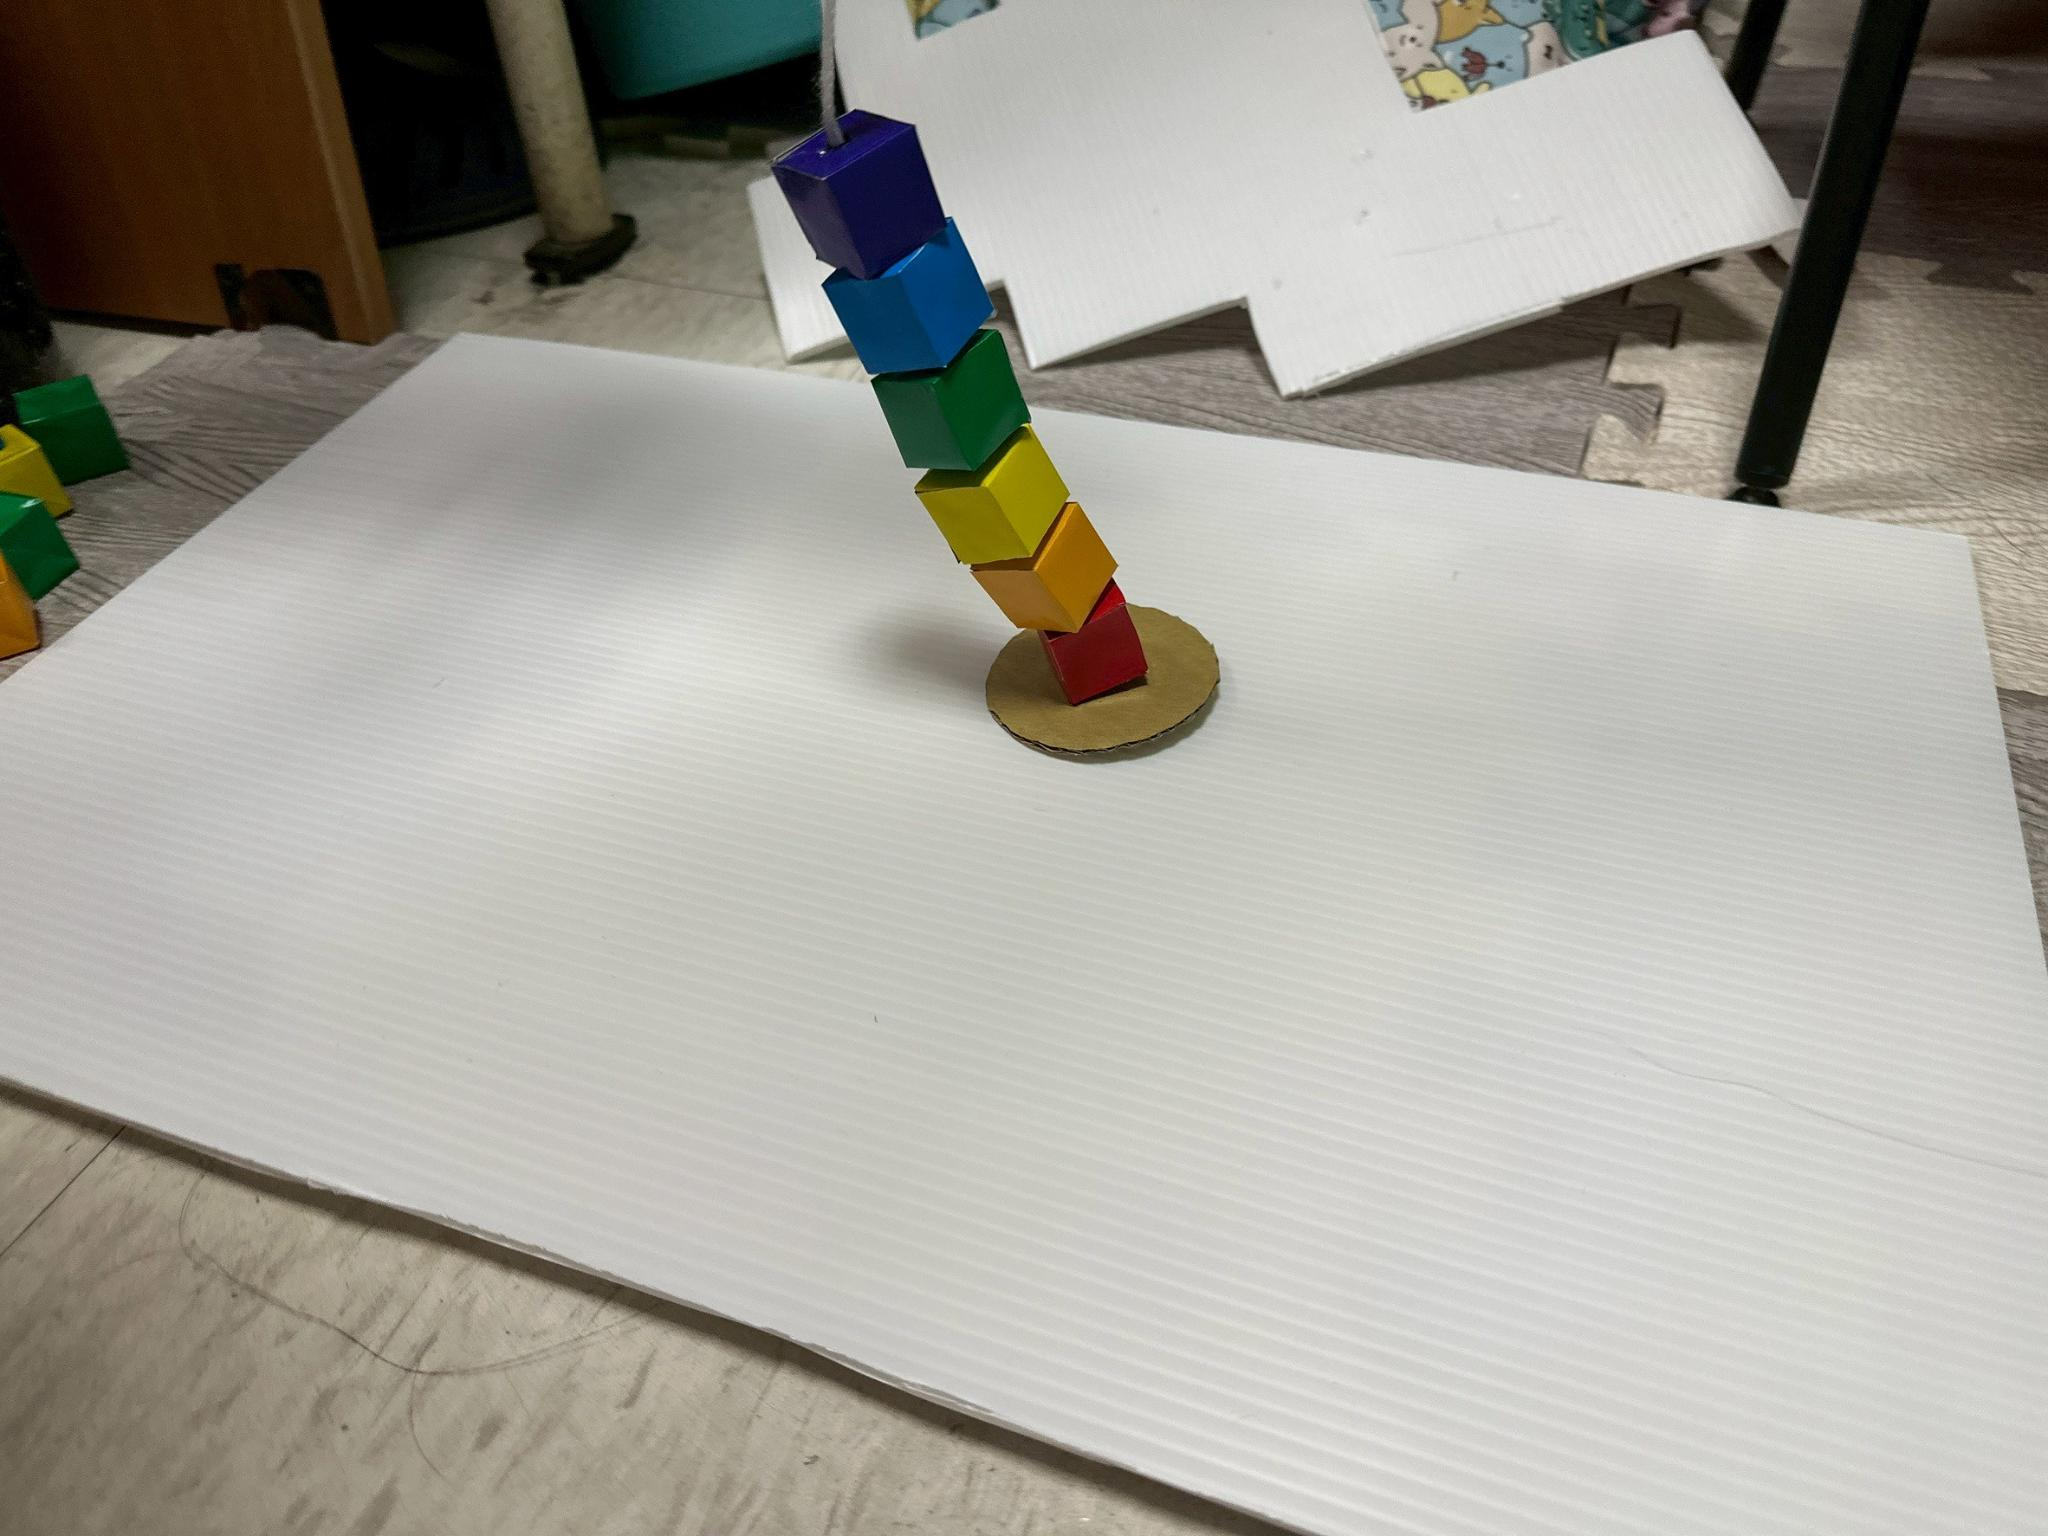base: (987, 605, 1219, 753)
cube: (774, 110, 945, 279), (822, 219, 993, 373), (872, 331, 1029, 471), (916, 424, 1068, 566), (972, 502, 1116, 632), (1042, 581, 1147, 705), (18, 378, 127, 484), (0, 490, 77, 600), (0, 424, 71, 518), (0, 557, 40, 658)
